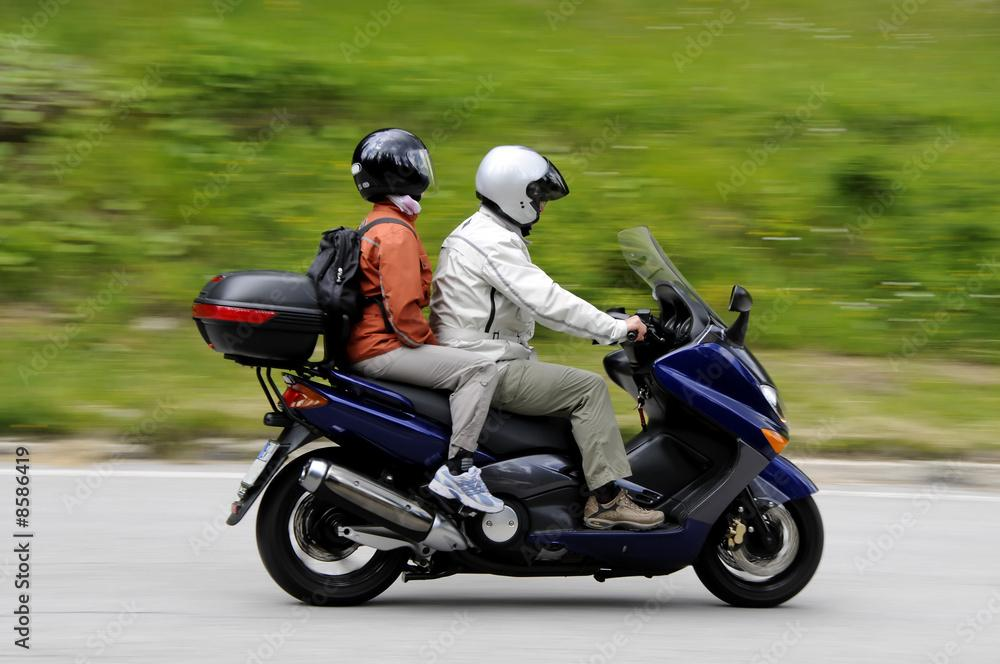helmet: (474, 144, 571, 238), (350, 126, 440, 203)
